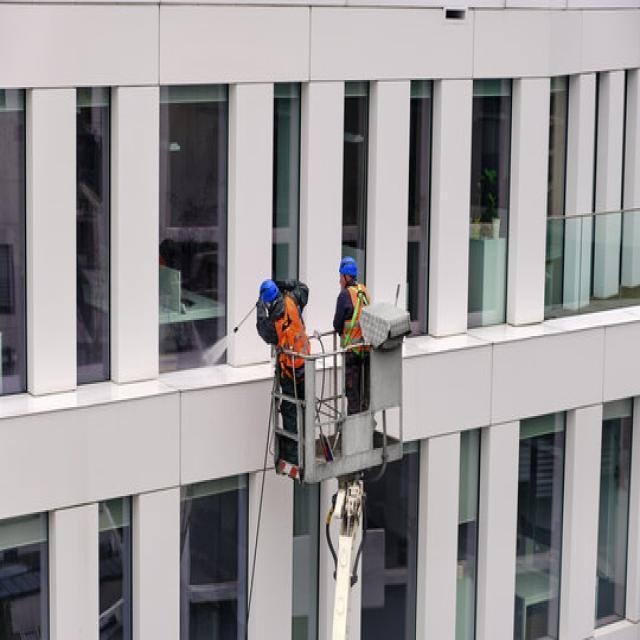Arnes_seguridad: (340, 285, 368, 350), (275, 335, 310, 385)
